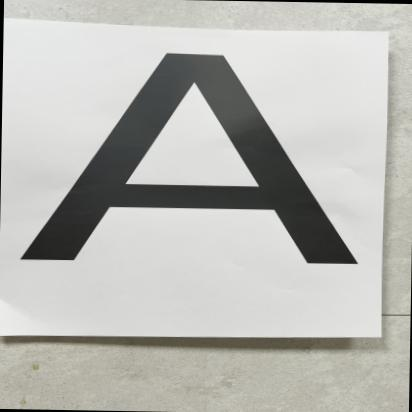seat: (14, 34, 370, 278)
